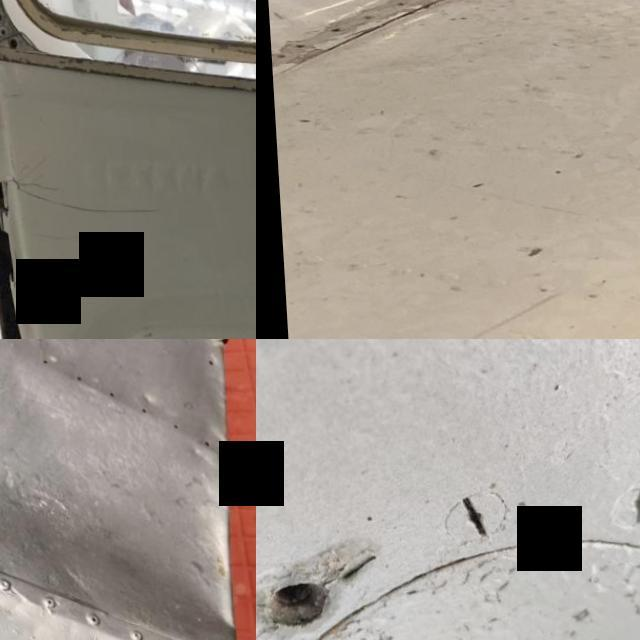Crack: (0, 128, 170, 339)
Missing_Fastener: (256, 533, 365, 640), (271, 52, 285, 61), (292, 41, 306, 50)
